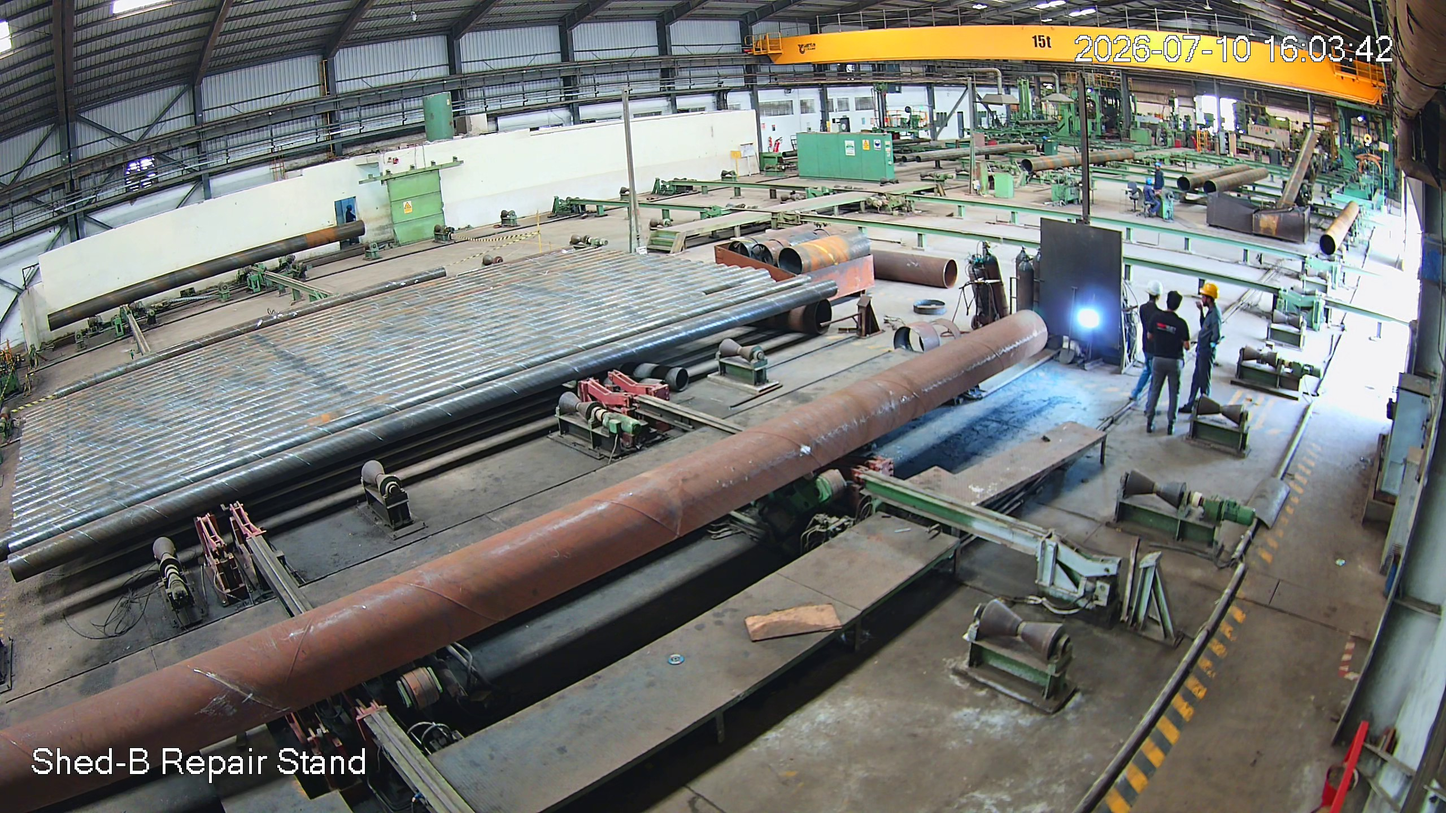Helmet: (1142, 280, 1169, 314), (1197, 282, 1224, 313)
Person: (1148, 292, 1188, 429), (1127, 280, 1167, 411), (1193, 283, 1223, 406)
